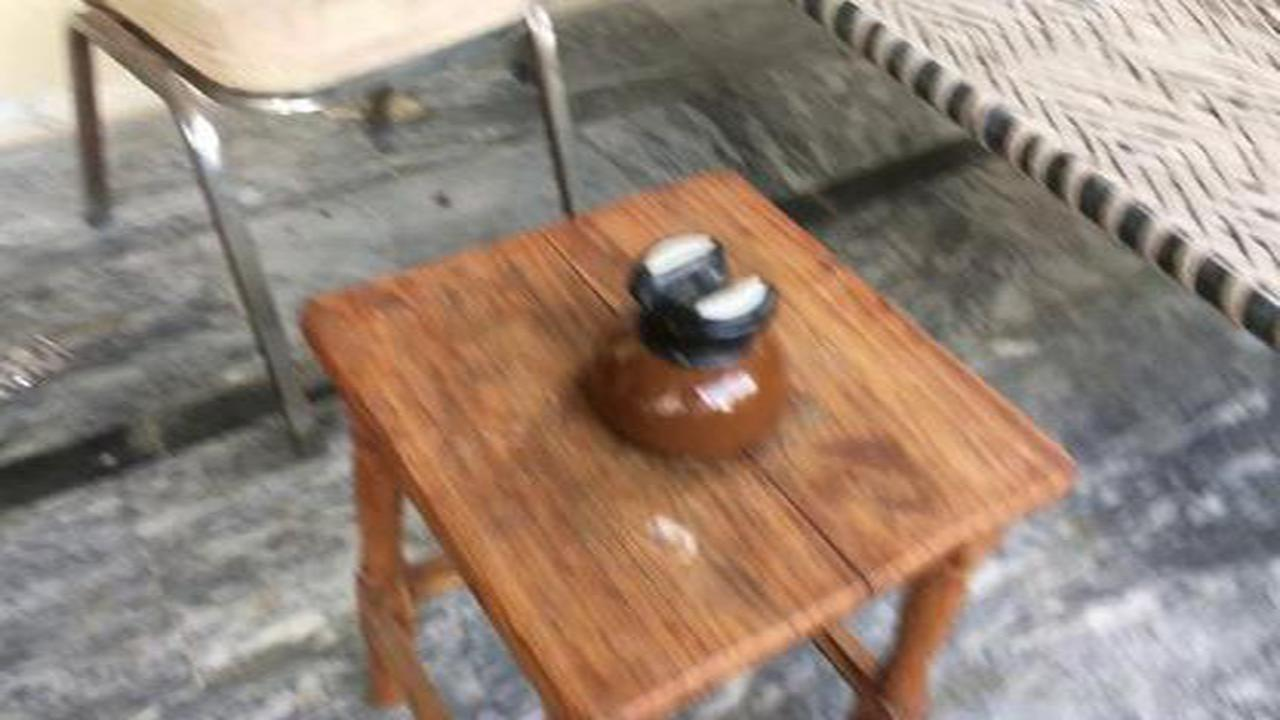insulator_pin: (567, 220, 810, 482)
